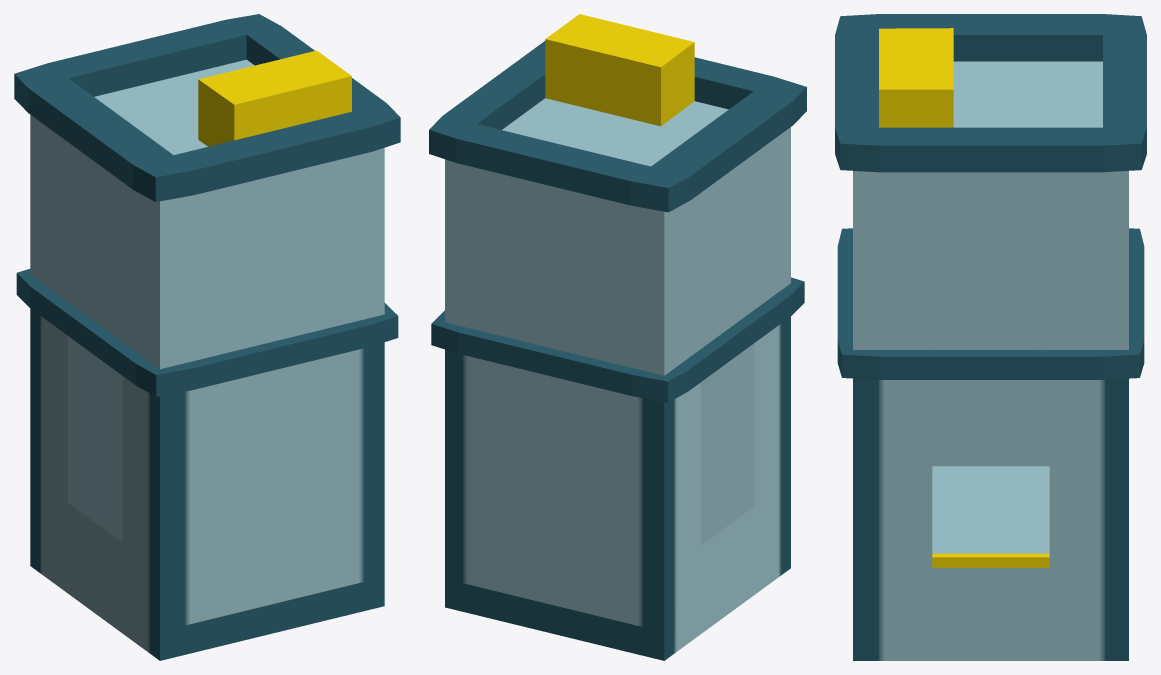
File: house_7.glb
3 renders of one model, left to right at view 1: azimuth 30°, elevation 25°; view 2: azimuth 150°, elevation 25°; view 3: azimuth 270°, elevation 25°, orthographic. The views are drawn at different scales.
Parts seen in each view (by area): view 1: house; view 2: house; view 3: house.
Boxes of the visible parts, bbox=[...] form: house: bbox=[14, 14, 400, 660]; house: bbox=[429, 14, 806, 660]; house: bbox=[835, 14, 1146, 660].
Size of what is drawn, in the model's own units: 18.06 by 35.83 by 18.06.
1 material, 1 textured.
